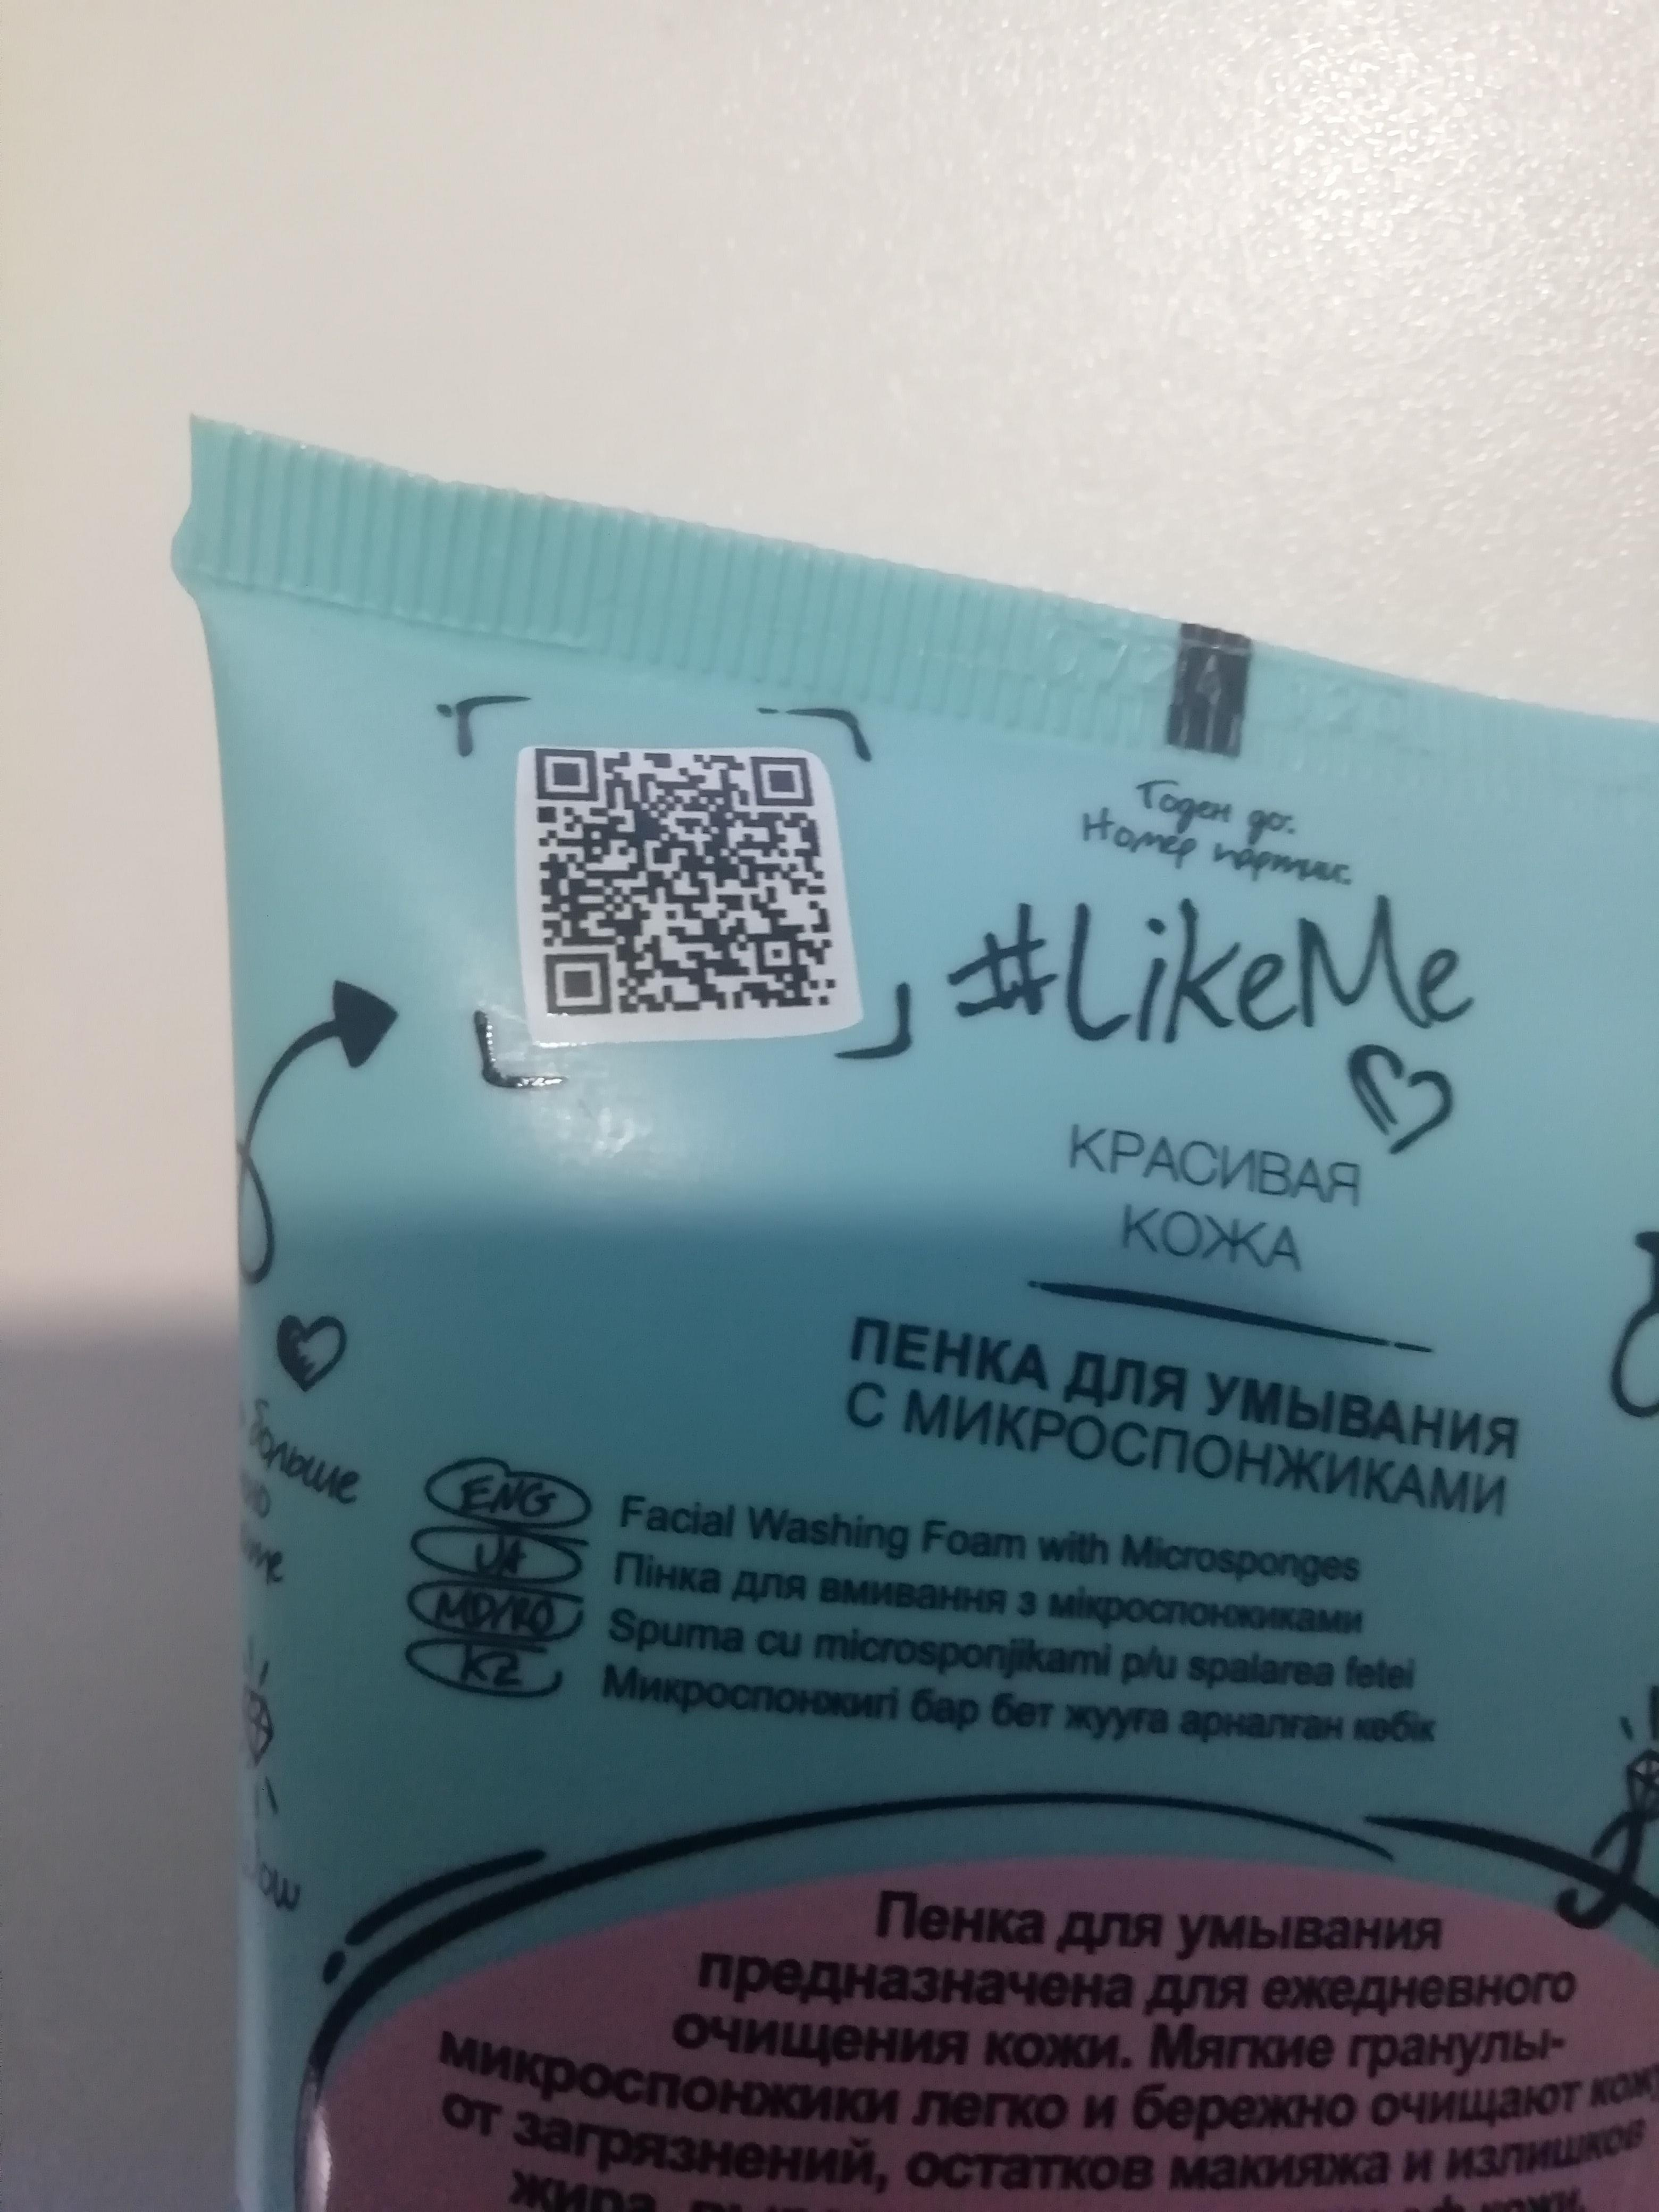qrcode: (537, 747, 838, 1015)
